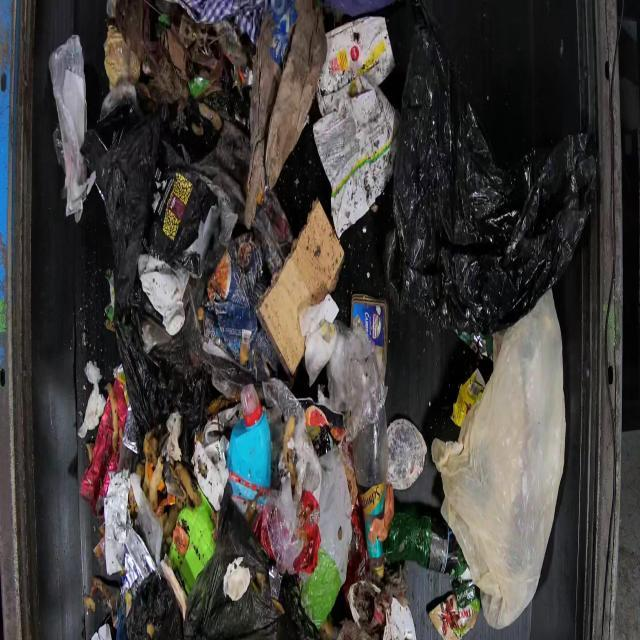cardboard: (253, 197, 345, 376)
other-trash: (49, 1, 597, 638)
